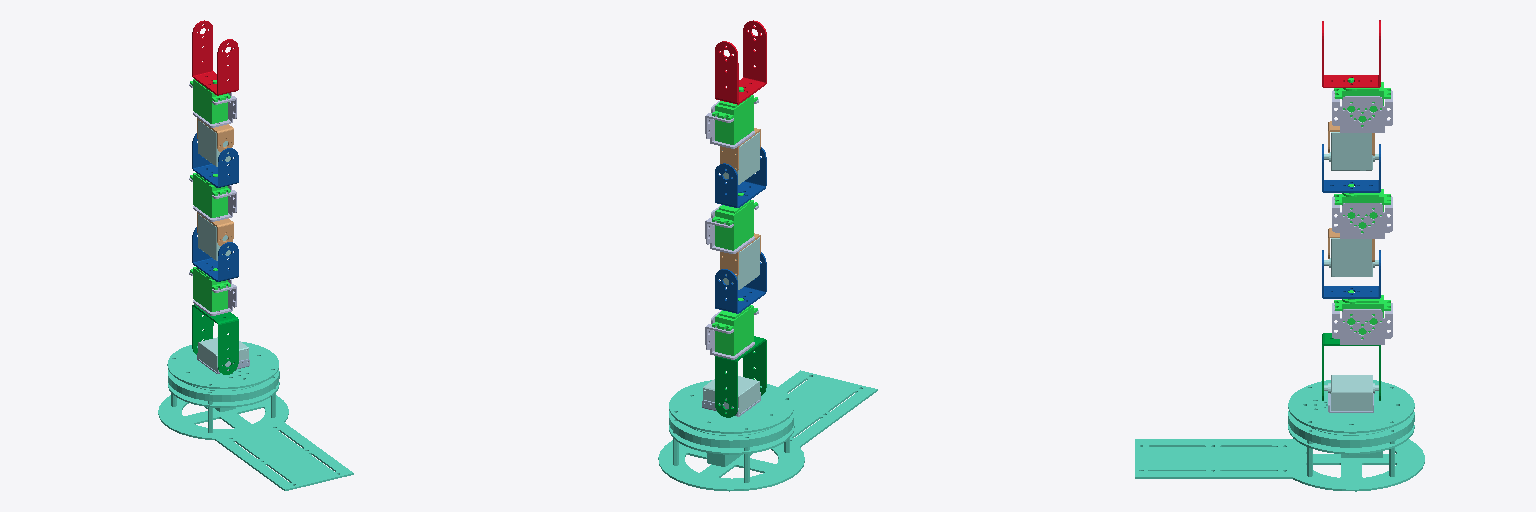
robot.urdf — bamboo_description:
<robot name="bamboo_description">

<link name="base_link">
    <visual>
      <origin xyz="-0.0857 0.0857 0" rpy="1.57 0 0" />
      <geometry>
        <mesh filename="package://bamboo_description/meshes/base.STL" />
      </geometry>
      <material name="">
        <color rgba="0.4 0.9 0.8 0.9" />
      </material>
    </visual>
    <collision>
      <origin xyz="-0.0857 0.0857 0" rpy="1.57 0 0" />
      <geometry>
        <mesh filename="package://bamboo_description/meshes/base.STL" />
      </geometry>
    </collision>
  </link>

<joint name="link1_link2" type="revolute">
    <axis xyz="0 0 1" />
    <limit lower="-3.14" upper="3.14" effort="100" velocity="3" />
    <origin xyz="0 0 0.0589" rpy="0 0 0" />
    <parent link="base_link" />
    <child link="link_2" />

  </joint>

<link name="link_2">
    <visual>
      <origin xyz="0 0 0" rpy="1.57 0 1.57" />
      <geometry>
        <mesh filename="package://bamboo_description/meshes/side.STL" />
      </geometry>
      <material name="">
        <color rgba="0.7 0.8 0.9 0.9" />
      </material>
    </visual>
    <collision>
      <origin xyz="0 0 0" rpy="1.57 0 1.57" />
      <geometry>
        <mesh filename="package://bamboo_description/meshes/side.STL" />
      </geometry>
    </collision>
  </link>

  <joint name="link2_servo3" type="fixed">
    <axis xyz="0 0 0"/>
    <origin rpy="0 0 0" xyz="0 0 0.0019"/>
    <parent link="link_2"/>
    <child link="servo_3"/>
  </joint>


  <link name="servo_3">
    <visual>
      <origin xyz="-0.0199 -0.0257 0" rpy="1.57 0 1.57" />
      <geometry>
        <mesh filename="package://bamboo_description/meshes/servo_dual_shaft.STL" />
      </geometry>
      <material name="">
        <color rgba="0.7 0.9 0.9 1" />
      </material>
    </visual>
    <collision>
      <origin xyz="-0.0199 -0.0257 0" rpy="1.57 0 1.57" />
      <geometry>
        <mesh filename="package://bamboo_description/meshes/servo_dual_shaft.STL" />
      </geometry>
    </collision>
  </link>


<joint name="servo3_link4" type="revolute">
    <axis xyz="0 1 0" />
    <limit lower="-1.57" upper="1.57" effort="100" velocity="3" />
    <origin xyz="-0.0100 0 0.0099" rpy="0 0 0" />
    <parent link="servo_3" />
    <child link="link_4" />
  </joint>

<link name="link_4">
    <visual>
      <origin xyz="-0.0124 0.0270 0.0502" rpy="0 3.14 1.57" />
      <geometry>
        <mesh filename="package://bamboo_description/meshes/long_U.STL" />
      </geometry>
      <material name="">
        <color rgba="0 0.7 0.3 0.5" />
      </material>
    </visual>
    <collision>
      <origin xyz="-0.0124 0.0270 0.0502" rpy="0 3.14 1.57" />
      <geometry>
        <mesh filename="package://bamboo_description/meshes/long_U.STL" />
      </geometry>
    </collision>
  </link>

<joint name="link4_link5" type="fixed">
    <axis xyz="0 0 0"/>
    <origin rpy="0 0 0" xyz="0 0 0.0524"/>
    <parent link="link_4"/>
    <child link="link_5"/>
  </joint>
  
  <link name="link_5">
    <visual>
      <origin xyz="0.01605 0.0395 0.0375" rpy="3.14 0 -1.57" />
      <geometry>
        <mesh filename="package://bamboo_description/meshes/servo_mount_x.STL" />
      </geometry>
      <material name="">
        <color rgba="0.79608 0.82353 0.93725 1" />
      </material>
    </visual>
    <collision>
      <origin xyz="0.01605 0.0395 0.0375" rpy="3.14 0 -1.57" />
      <geometry>
        <mesh filename="package://bamboo_description/meshes/servo_mount_x.STL" />
      </geometry>
    </collision>
  </link>
  
  <joint name="link5_servo6" type="fixed">
    <axis xyz="0 0 0"/>
    <origin rpy="0 0 0" xyz="0 0 0.047"/>
    <parent link="link_5"/>
    <child link="servo_6"/>
  </joint>

  <link name="servo_6">
    <visual>
      <origin xyz="0.0100 0.0380 -0.0431" rpy="1.57 0 -1.57" />
      <geometry>
        <mesh filename="package://bamboo_description/meshes/servo.STL" />
      </geometry>
      <material name="">
        <color rgba="0.2 1 0.4 0.5" />
      </material>
    </visual>
    <collision>
      <origin xyz="0.0100 0.0380 -0.0431" rpy="1.57 0 -1.57" />
      <geometry>
        <mesh filename="package://bamboo_description/meshes/servo.STL" />
      </geometry>
    </collision>
  </link>

<joint name="servo6_link7" type="revolute">
    <axis xyz="0 0 1" />
    <limit lower="-3.14" upper="3.14" effort="100" velocity="3" />
    <origin xyz="0 0 0" rpy="0 0 0" />
    <parent link="servo_6" />
    <child link="link_7" />
  </joint>

 <link name="link_7">
    <visual>
      <origin xyz="-0.0124 -0.0269 0.0018" rpy="0 0 1.57" />
      <geometry>
        <mesh filename="package://bamboo_description/meshes/short_U.STL" />
      </geometry>
      <material name="">
        <color rgba="0.1 0.4 0.7 0.5" />
      </material>
    </visual>
    <collision>
      <origin xyz="-0.0124 -0.0269 0.0018" rpy="0 0 1.57" />
      <geometry>
        <mesh filename="package://bamboo_description/meshes/short_U.STL" />
      </geometry>
    </collision>
  </link>

<joint name="link7_servo8" type="revolute">
    <axis xyz="0 1 0" />
    <limit lower="-1.57" upper="1.57" effort="100" velocity="3" />
    <origin xyz="0 0 0.03186" rpy="0 0 0" />
    <parent link="link_7" />
    <child link="servo_8" />
  </joint>

<link name="servo_8">
    <visual>
      <origin xyz="0.0099 -0.0257 -0.0101" rpy="0 0 1.57" />
      <geometry>
        <mesh filename="package://bamboo_description/meshes/servo_dual_shaft.STL" />
      </geometry>
      <material name="">
        <color rgba="0.7 0.9 0.9 1" />
      </material>
    </visual>
    <collision>
      <origin xyz="0.0099 -0.0257 -0.0101" rpy="0 0 1.57" />
      <geometry>
        <mesh filename="package://bamboo_description/meshes/servo_dual_shaft.STL" />
      </geometry>
    </collision>
  </link>

<joint name="servo8_link9" type="fixed">
    <axis xyz="0 0 0"/>
    <origin rpy="0 0 0" xyz="0 0 0.0322"/>
    <parent link="servo_8"/>
    <child link="link_9"/>
  </joint>

<link name="link_9">
    <visual>
      <origin xyz="0 0 0" rpy="-1.57 0 1.57" />
      <geometry>
        <mesh filename="package://bamboo_description/meshes/narrow_U.STL" />
      </geometry>
      <material name="">
        <color rgba="0.9 0.7 0.5 0.7" />
      </material>
    </visual>
    <collision>
      <origin xyz="0 0 0" rpy="-1.57 0 1.57" />
      <geometry>
        <mesh filename="package://bamboo_description/meshes/narrow_U.STL" />
      </geometry>
    </collision>
  </link>

    <joint name="link9_link10" type="fixed">
    <axis xyz="0 0 0"/>
    <origin rpy="0 0 0" xyz="0 0 0.0"/>
    <parent link="link_9"/>
    <child link="link_10"/>
  </joint>

  <link name="link_10">
    <visual>
      <origin xyz="0.01605 0.0395 0.0375" rpy="3.14 0 -1.57" />
      <geometry>
        <mesh filename="package://bamboo_description/meshes/servo_mount_x.STL" />
      </geometry>
      <material name="">
        <color rgba="0.79608 0.82353 0.93725 1" />
      </material>
    </visual>
    <collision>
      <origin xyz="0.01605 0.0395 0.0375" rpy="3.14 0 -1.57" />
      <geometry>
        <mesh filename="package://bamboo_description/meshes/servo_mount_x.STL" />
      </geometry>
    </collision>
  </link>
  
  <joint name="link10_servo11" type="fixed">
    <axis xyz="0 0 0"/>
    <origin rpy="0 0 0" xyz="0 0 0.047"/>
    <parent link="link_10"/>
    <child link="servo_11"/>
  </joint>

  <link name="servo_11">
    <visual>
      <origin xyz="0.0100 0.0380 -0.0431" rpy="1.57 0 -1.57" />
      <geometry>
        <mesh filename="package://bamboo_description/meshes/servo.STL" />
      </geometry>
      <material name="">
        <color rgba="0.2 1 0.4 0.5" />
      </material>
    </visual>
    <collision>
      <origin xyz="0.0100 0.0380 -0.0431" rpy="1.57 0 -1.57" />
      <geometry>
        <mesh filename="package://bamboo_description/meshes/servo.STL" />
      </geometry>
    </collision>
  </link>

<joint name="servo11_link12" type="revolute">
    <axis xyz="0 0 1" />
    <limit lower="-3.14" upper="3.14" effort="100" velocity="3" />
    <origin xyz="0 0 0" rpy="0 0 0" />
    <parent link="servo_11" />
    <child link="link_12" />
  </joint>

 <link name="link_12">
    <visual>
      <origin xyz="-0.0124 -0.0269 0.0018" rpy="0 0 1.57" />
      <geometry>
        <mesh filename="package://bamboo_description/meshes/short_U.STL" />
      </geometry>
      <material name="">
        <color rgba="0.1 0.4 0.7 0.5" />
      </material>
    </visual>
    <collision>
      <origin xyz="-0.0124 -0.0269 0.0018" rpy="0 0 1.57" />
      <geometry>
        <mesh filename="package://bamboo_description/meshes/short_U.STL" />
      </geometry>
    </collision>
  </link>

  
<joint name="link12_servo13" type="revolute">
    <axis xyz="0 1 0" />
    <limit lower="-1.57" upper="1.57" effort="100" velocity="3" />
    <origin xyz="0 0 0.03186" rpy="0 0 0" />
    <parent link="link_12" />
    <child link="servo_13" />
  </joint>

<link name="servo_13">
    <visual>
      <origin xyz="0.0099 -0.0257 -0.0101" rpy="0 0 1.57" />
      <geometry>
        <mesh filename="package://bamboo_description/meshes/servo_dual_shaft.STL" />
      </geometry>
      <material name="">
        <color rgba="0.7 0.9 0.9 1" />
      </material>
    </visual>
    <collision>
      <origin xyz="0.0099 -0.0257 -0.0101" rpy="0 0 1.57" />
      <geometry>
        <mesh filename="package://bamboo_description/meshes/servo_dual_shaft.STL" />
      </geometry>
    </collision>
  </link>

<joint name="servo13_link14" type="fixed">
    <axis xyz="0 0 0"/>
    <origin rpy="0 0 0" xyz="0 0 0.0322"/>
    <parent link="servo_13"/>
    <child link="link_14"/>
  </joint>

<link name="link_14">
    <visual>
      <origin xyz="0 0 0" rpy="-1.57 0 1.57" />
      <geometry>
        <mesh filename="package://bamboo_description/meshes/narrow_U.STL" />
      </geometry>
      <material name="">
        <color rgba="0.9 0.7 0.5 0.7" />
      </material>
    </visual>
    <collision>
      <origin xyz="0 0 0" rpy="-1.57 0 1.57" />
      <geometry>
        <mesh filename="package://bamboo_description/meshes/narrow_U.STL" />
      </geometry>
    </collision>
  </link>

    <joint name="link14_link15" type="fixed">
    <axis xyz="0 0 0"/>
    <origin rpy="0 0 0" xyz="0 0 0.0"/>
    <parent link="link_14"/>
    <child link="link_15"/>
  </joint>

  <link name="link_15">
    <visual>
      <origin xyz="0.01605 0.0395 0.0375" rpy="3.14 0 -1.57" />
      <geometry>
        <mesh filename="package://bamboo_description/meshes/servo_mount_x.STL" />
      </geometry>
      <material name="">
        <color rgba="0.79608 0.82353 0.93725 1" />
      </material>
    </visual>
    <collision>
      <origin xyz="0.01605 0.0395 0.0375" rpy="3.14 0 -1.57" />
      <geometry>
        <mesh filename="package://bamboo_description/meshes/servo_mount_x.STL" />
      </geometry>
    </collision>
  </link>
  
  <joint name="link15_servo16" type="fixed">
    <axis xyz="0 0 0"/>
    <origin rpy="0 0 0" xyz="0 0 0.047"/>
    <parent link="link_15"/>
    <child link="servo_16"/>
  </joint>

  <link name="servo_16">
    <visual>
      <origin xyz="0.0100 0.0380 -0.0431" rpy="1.57 0 -1.57" />
      <geometry>
        <mesh filename="package://bamboo_description/meshes/servo.STL" />
      </geometry>
      <material name="">
        <color rgba="0.2 1 0.4 0.5" />
      </material>
    </visual>
    <collision>
      <origin xyz="0.0100 0.0380 -0.0431" rpy="1.57 0 -1.57" />
      <geometry>
        <mesh filename="package://bamboo_description/meshes/servo.STL" />
      </geometry>
    </collision>
  </link>
  <joint name="servo16_link17" type="revolute">
    <axis xyz="0 0 1" />
    <limit lower="-3.14" upper="3.14" effort="100" velocity="3" />
    <origin xyz="0 0 0" rpy="0 0 0" />
    <parent link="servo_16" />
    <child link="link_17" />
  </joint>

  <link name="link_17">
    <visual>
      <origin xyz="0.0124 0.0270 0" rpy="3.14 3.14 1.57" />
      <geometry>
        <mesh filename="package://bamboo_description/meshes/long_U.STL" />
      </geometry>
      <material name="">
        <color rgba="0.9 0.1 0.2 0.7" />
      </material>
    </visual>
    <collision>
      <origin xyz="0.0124 0.0270 0" rpy="3.14 3.14 1.57" />
      <geometry>
        <mesh filename="package://bamboo_description/meshes/long_U.STL" />
      </geometry>
    </collision>
  </link>
<!--
<link name="base_link">
    <visual>
      <origin xyz="0 0 0" rpy="0 0 0" />
      <geometry>
        <mesh filename="package://bamboo_description/meshes/wide_U.STL" />
      </geometry>
      <material name="">
        <color rgba="0 0.7 0.3 0.5" />
      </material>
    </visual>
    <collision>
      <origin xyz="0 0 0" rpy="-1.57 0 0" />
      <geometry>
        <mesh filename="package://bamboo_description/meshes/wide_U.STL" />
      </geometry>
    </collision>
  </link>
-->
<!--link
<link name="base_link">
    <visual>
      <origin xyz="0 0 0" rpy="0 0 0" />
      <geometry>
        <mesh filename="package://bamboo_description/meshes/base.STL" />
      </geometry>
      <material name="">
        <color rgba="0 0.7 0.3 0.5" />
      </material>
    </visual>
    <collision>
      <origin xyz="0 0 0" rpy="-1.57 0 0" />
      <geometry>
        <mesh filename="package://bamboo_description/meshes/base.STL" />
      </geometry>
    </collision>
  </link>
-->
<!--joint
<joint name="servo6_link7" type="revolute">
    <axis xyz="0 0 1" />
    <limit lower="-3.14" upper="3.14" effort="100" velocity="3" />
    <origin xyz="0 0 0" rpy="0 0 0" />
    <parent link="servo_6" />
    <child link="link_7" />
  </joint>
-->
<!--
<link name="servo_3">
    <visual>
      <origin xyz="0.0099 -0.0257 0.0101" rpy="0 0 1.57" />
      <geometry>
        <mesh filename="package://bamboo_description/meshes/servo_dual_shaft.STL" />
      </geometry>
      <material name="">
        <color rgba="0.7 0.9 0.9 1" />
      </material>
    </visual>
    <collision>
      <origin xyz="0 0 0" rpy="-1.57 0 0" />
      <geometry>
        <mesh filename="package://bamboo_description/meshes/servo_dual_shaft.STL" />
      </geometry>
    </collision>
  </link>
-->

</robot>

--- What the picture shows (computed from the rendered views, not written in the file) ---
Views: 3 orthographic renders of the robot side by side, from view 1: azimuth 30°, elevation 25°; view 2: azimuth 150°, elevation 25°; view 3: azimuth 270°, elevation 25°.
Model bamboo_description with 17 links and 16 joints (7 revolute, 9 fixed), rooted at base_link, posed all joints at 0.
Links seen in each view (by area): view 1: base_link, link_17, link_4, link_7, link_12, servo_11, servo_6, servo_16, servo_8, servo_13, servo_3; view 2: base_link, link_17, link_4, link_7, link_12, servo_11, servo_6, servo_16, servo_3, servo_8, servo_13, link_5 (+2 smaller); view 3: base_link, link_15, link_10, link_5, servo_8, servo_13, servo_3, link_17, link_7, link_12, servo_6, servo_11 (+1 smaller).
Boxes of the visible links, <box> form: base_link: <box>158,342,353,490</box>; link_17: <box>192,20,238,95</box>; link_4: <box>192,304,238,374</box>; link_7: <box>192,227,238,281</box>; link_12: <box>192,133,238,187</box>; servo_11: <box>190,173,230,217</box>; servo_6: <box>190,267,230,311</box>; servo_16: <box>190,79,230,123</box>; servo_8: <box>198,214,230,260</box>; servo_13: <box>198,120,230,166</box>; servo_3: <box>198,337,248,371</box>; base_link: <box>658,370,877,491</box>; link_17: <box>715,20,766,104</box>; link_4: <box>715,336,766,417</box>; link_7: <box>715,252,766,313</box>; link_12: <box>715,147,766,207</box>; servo_11: <box>712,193,757,250</box>; servo_6: <box>712,298,757,355</box>; servo_16: <box>712,87,757,144</box>; servo_3: <box>703,376,759,413</box>; servo_8: <box>723,237,759,289</box>; servo_13: <box>722,132,759,184</box>; link_5: <box>705,310,758,359</box>; base_link: <box>1135,380,1424,491</box>; link_15: <box>1332,90,1392,132</box>; link_10: <box>1332,196,1392,238</box>; link_5: <box>1332,303,1392,344</box>; servo_8: <box>1324,238,1378,276</box>; servo_13: <box>1324,132,1378,170</box>; servo_3: <box>1324,375,1378,410</box>; link_17: <box>1322,20,1380,87</box>; link_7: <box>1322,250,1380,298</box>; link_12: <box>1322,144,1380,192</box>; servo_6: <box>1334,290,1390,338</box>; servo_11: <box>1334,184,1390,232</box>.
Bounding box of the posed robot: 0.1396 × 0.2747 × 0.4541 m (x, y, z).
Meshes: 8 distinct files referenced, 17 mesh visuals loaded (8 binary STL).